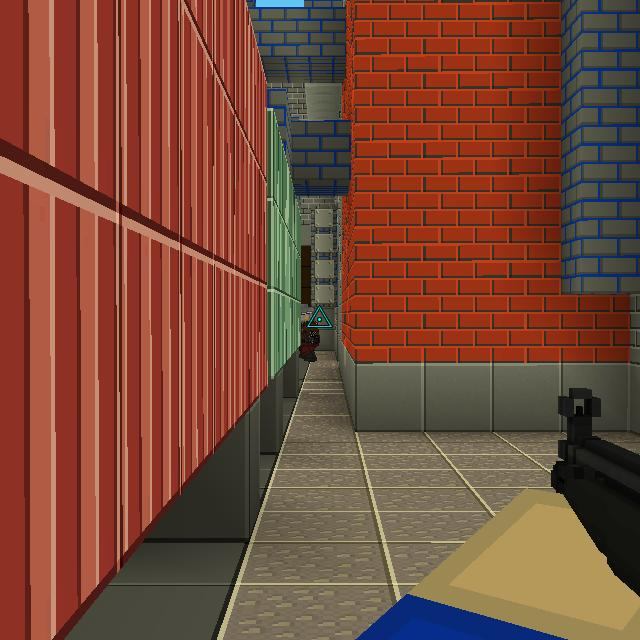enemy: (299, 303, 320, 362)
